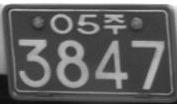0: (49, 13, 73, 34)
3: (17, 37, 51, 88)
4: (94, 39, 129, 89)
5: (76, 13, 100, 35)
7: (130, 39, 165, 90)
8: (55, 38, 90, 89)
주: (103, 13, 126, 35)
